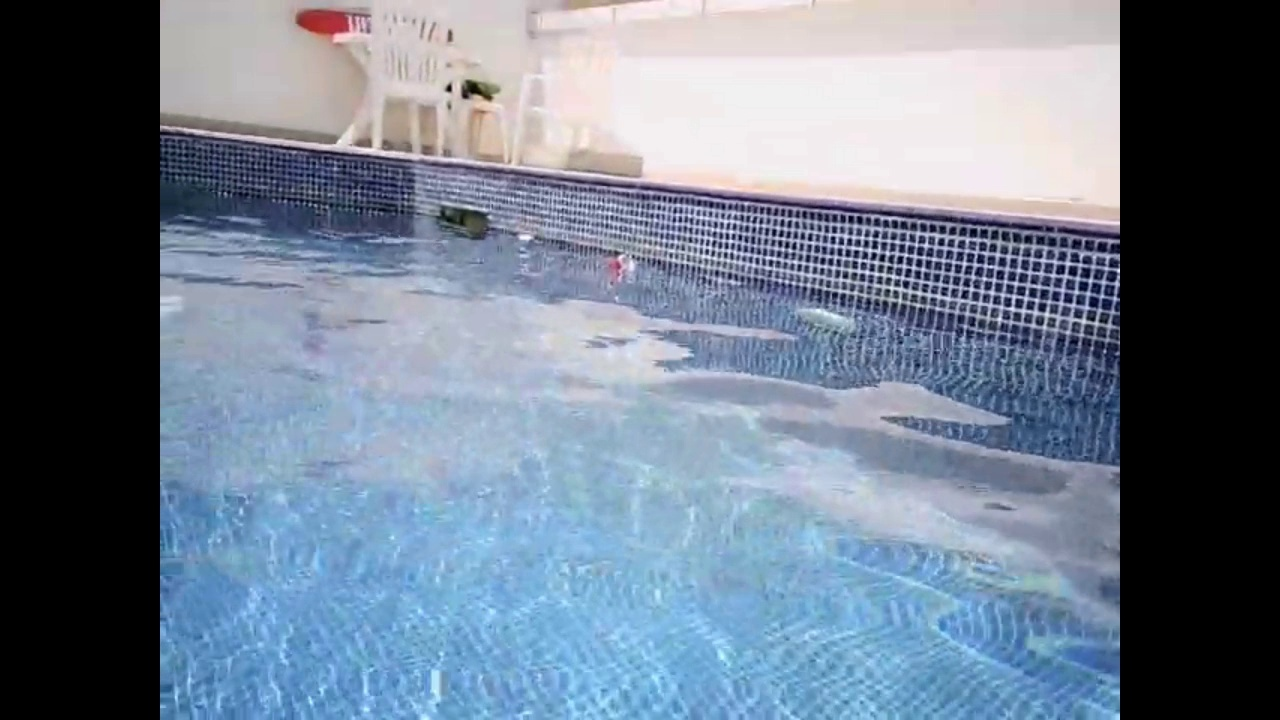debris: (598, 251, 638, 278), (510, 232, 539, 249)
